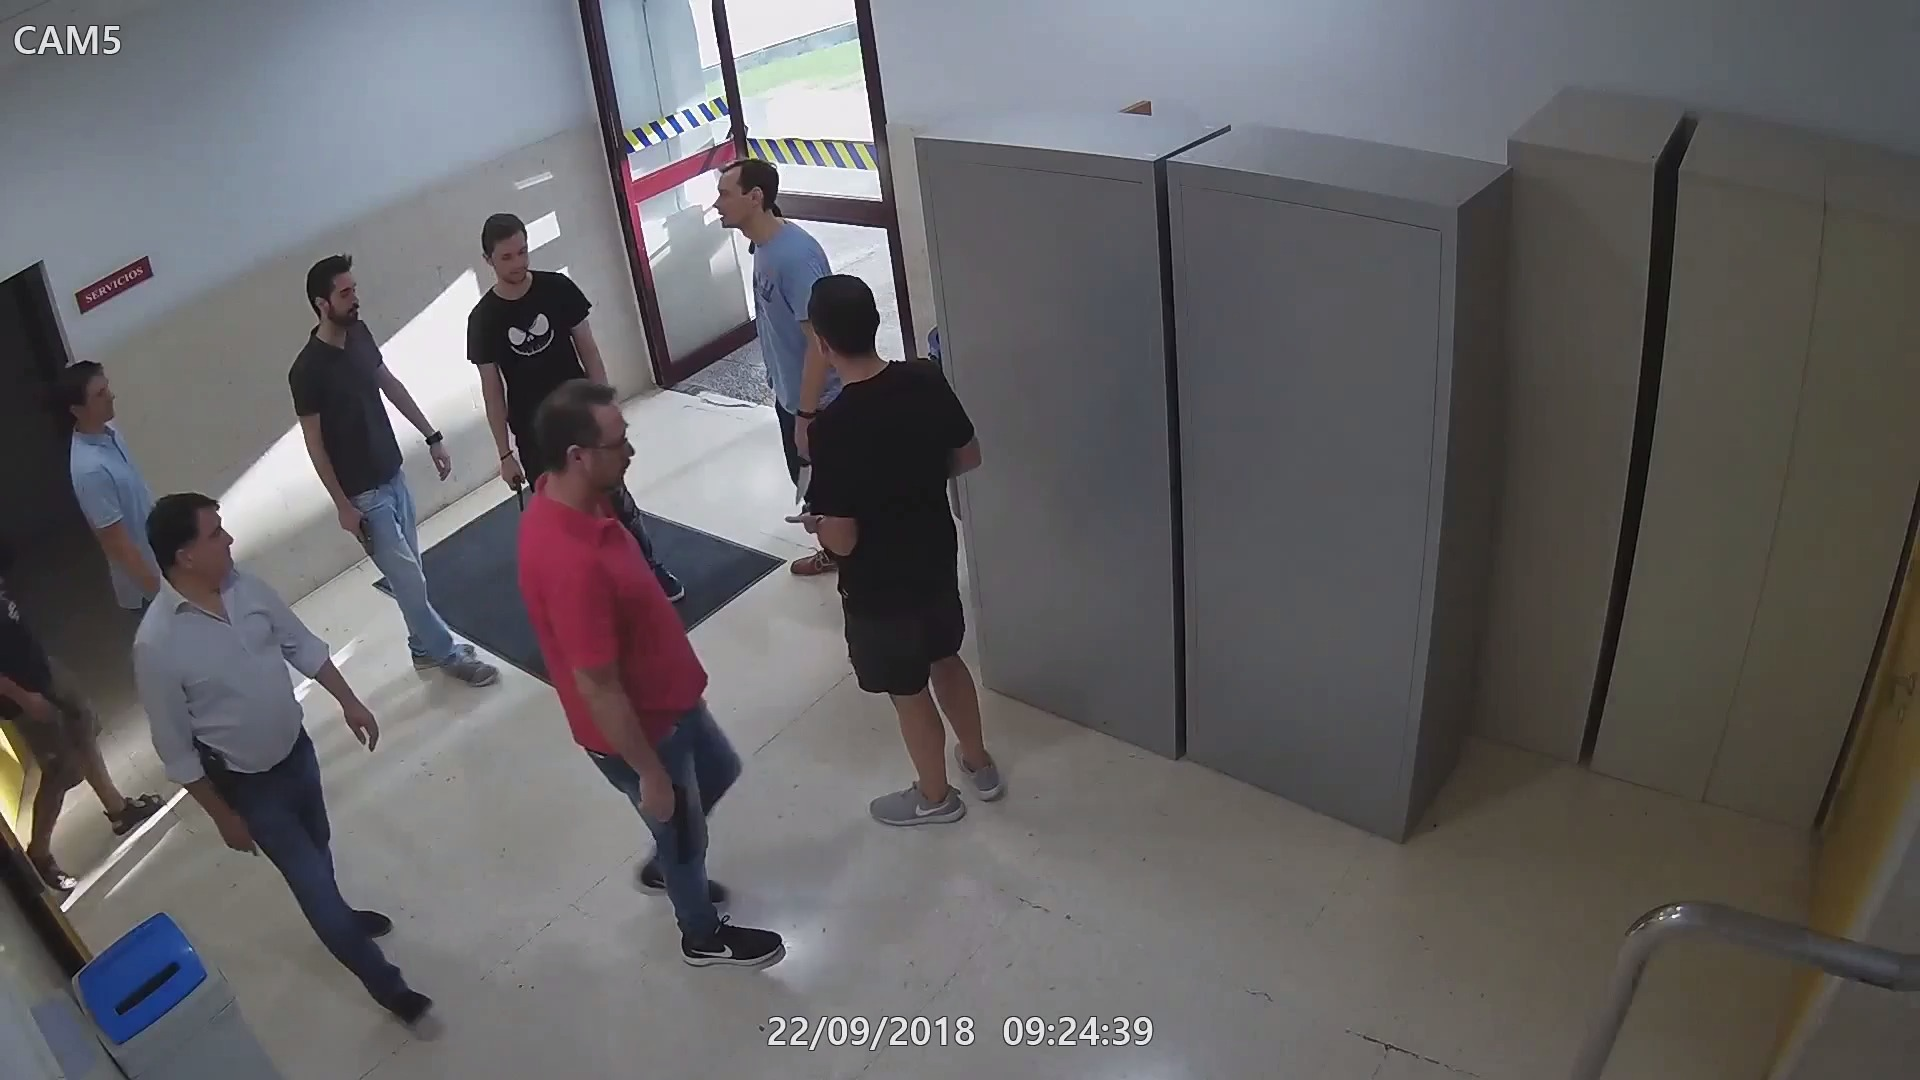Handgun: (636, 766, 702, 876), (335, 495, 378, 556), (32, 686, 95, 727), (196, 742, 236, 802), (502, 448, 529, 531)
Knife: (793, 421, 822, 510)
